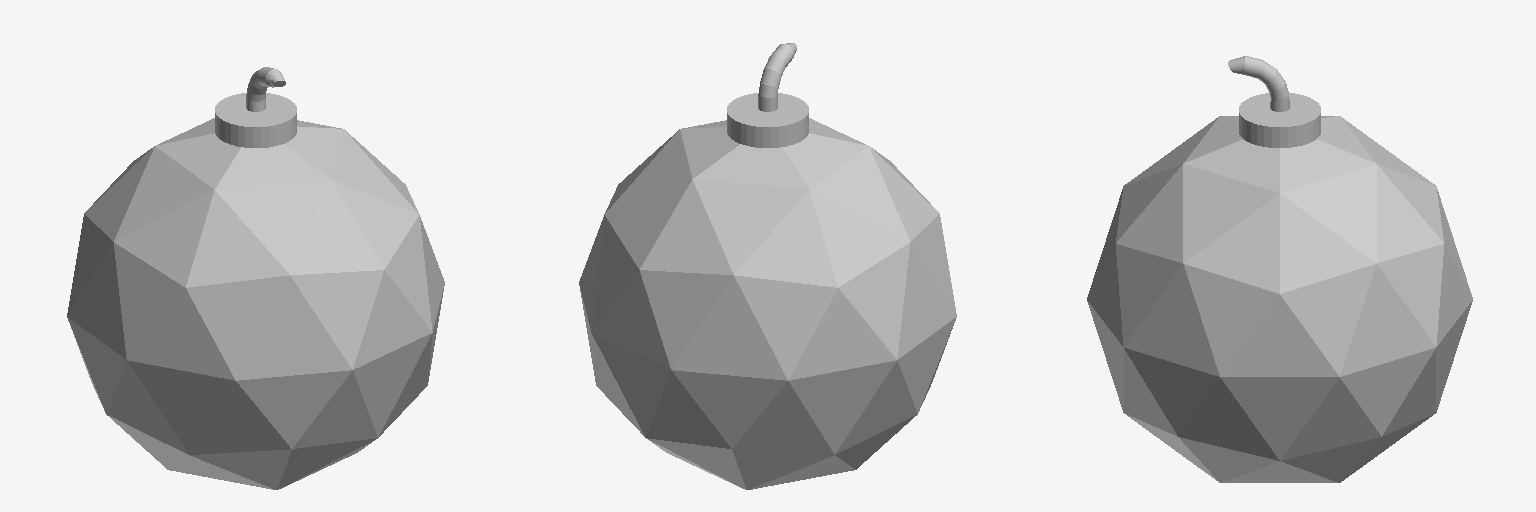
The model's file is Bom.obj.
The picture shows the model from 3 angles: view 1: azimuth 30°, elevation 25°; view 2: azimuth 150°, elevation 25°; view 3: azimuth 270°, elevation 25°; orthographic projection.
Parts seen in each view (by area): view 1: ICO球; view 2: ICO球; view 3: ICO球.
Part boxes in pixels (x1,y1,x2,y2): ICO球: (67,67,444,489); ICO球: (579,43,956,489); ICO球: (1087,56,1472,482).
Size of the model in its own units: 1.9 by 2.28 by 2.